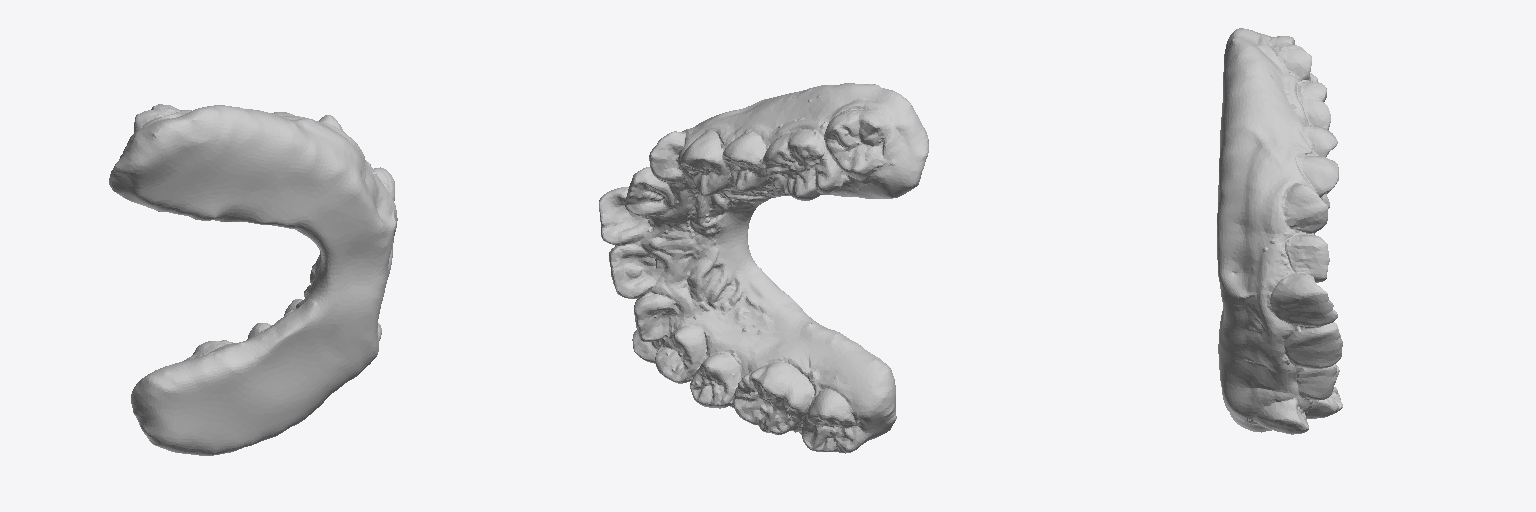
Rendered from MxInit_7780.OBJ.
3 views of the same model, side by side, from view 1: azimuth 30°, elevation 25°; view 2: azimuth 150°, elevation 25°; view 3: azimuth 270°, elevation 25° (orthographic).
Parts seen in each view (by area): view 1: Group45444; view 2: Group45444; view 3: Group45444.
Boxes of the visible parts, <box> form: Group45444: <box>109,104,397,455</box>; Group45444: <box>599,83,928,453</box>; Group45444: <box>1217,28,1342,434</box>.
Bounding box in the file's own units: 53.82 × 60.52 × 19.71.